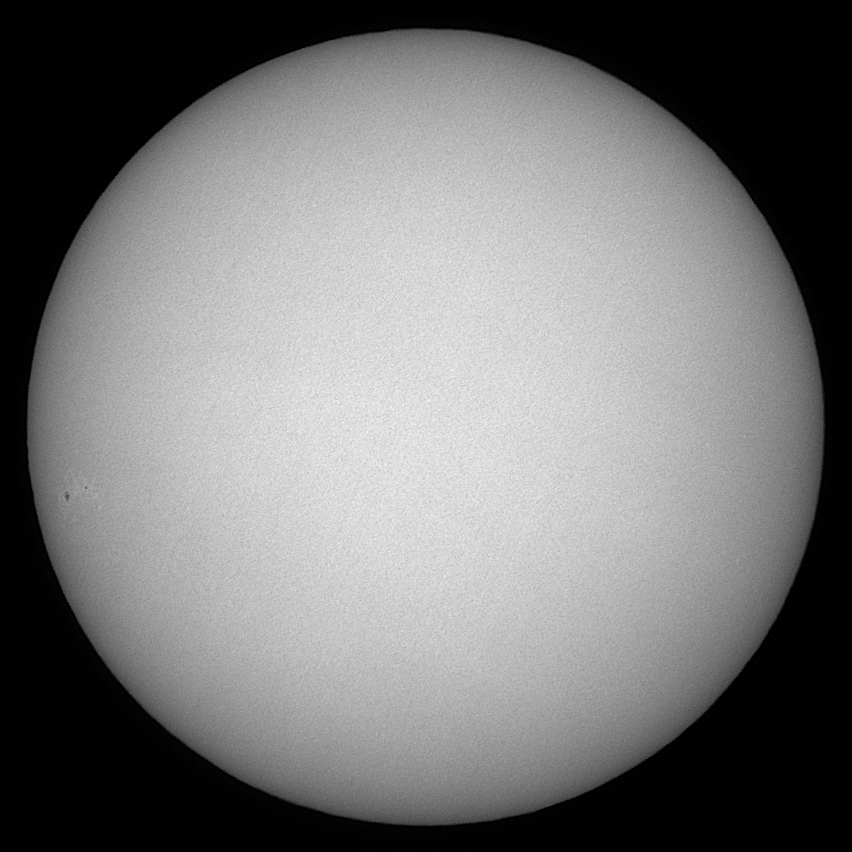sunspot: (59, 480, 93, 503)
